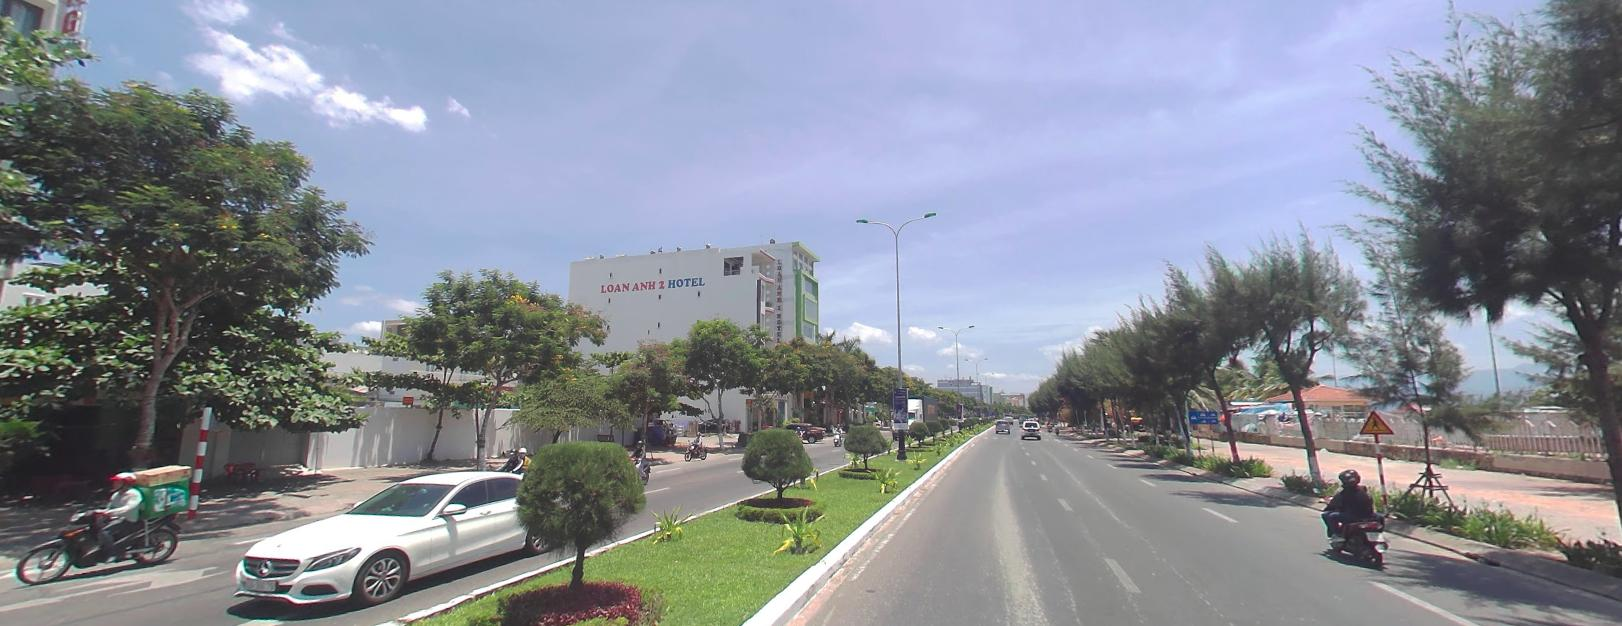Nguy hiem: (1360, 409, 1393, 433)
